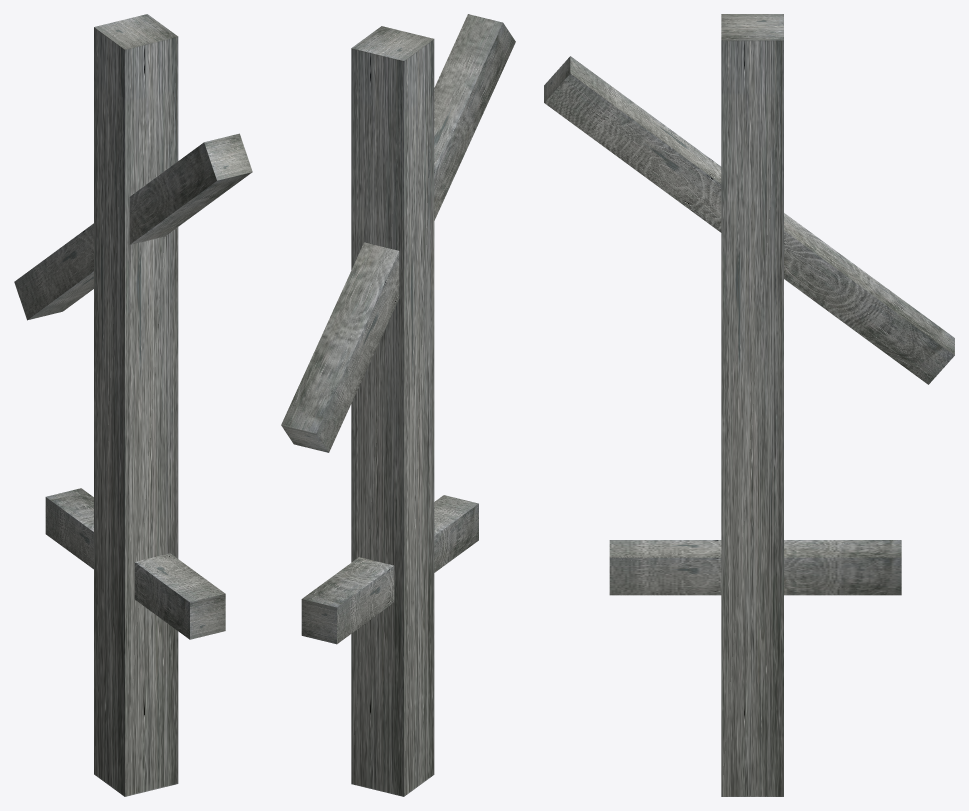
File: cross.obj
3 renders of one model, left to right at view 1: azimuth 30°, elevation 25°; view 2: azimuth 150°, elevation 25°; view 3: azimuth 270°, elevation 25°, orthographic. The views are drawn at different scales.
Parts seen in each view (by area): view 1: Box001, Box002, Box003; view 2: Box001, Box002, Box003; view 3: Box001, Box002, Box003.
Part boxes in pixels (x1,y1,x2,y2): Box001: (94, 14, 178, 796); Box002: (14, 133, 252, 320); Box003: (45, 488, 225, 639); Box001: (351, 26, 434, 796); Box002: (281, 14, 515, 452); Box003: (301, 495, 478, 644); Box001: (721, 14, 783, 796); Box002: (544, 56, 954, 384); Box003: (609, 540, 901, 595).
Size of the model in its own units: 5.91 by 78.74 by 38.74.
1 material, 1 textured.
